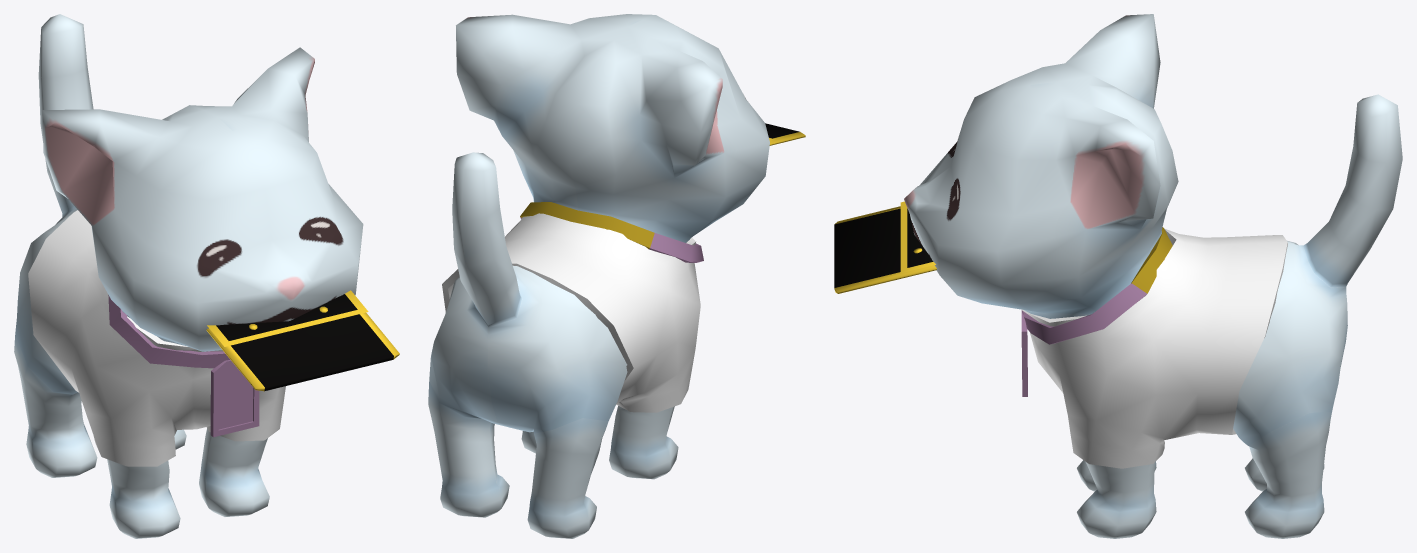
The model's file is Student Cat01_05.fbx.
The picture shows the model from 3 angles, left to right: view 1: azimuth 30°, elevation 25°; view 2: azimuth 150°, elevation 25°; view 3: azimuth 270°, elevation 25°; orthographic projection. The views are drawn at different scales.
Parts seen in each view (by area): view 1: Cat_Base004, tshirt, Plastic Envelope, id; view 2: Cat_Base004, tshirt, id, Plastic Envelope; view 3: Cat_Base004, tshirt, Plastic Envelope, id.
Part boxes in pixels (x1,y1,x2,y2): Cat_Base004: (14,14,363,538); tshirt: (28,210,285,466); Plastic Envelope: (206,290,399,391); id: (108,295,259,437); Cat_Base004: (428,14,769,538); tshirt: (442,213,700,412); id: (520,202,703,262); Plastic Envelope: (765,123,805,145); Cat_Base004: (904,14,1402,538); tshirt: (1022,228,1287,468); Plastic Envelope: (834,201,936,293); id: (1021,227,1172,396).
Size of the model in its own units: 1.75 by 3.23 by 2.68.
6 materials, 1 textured.
